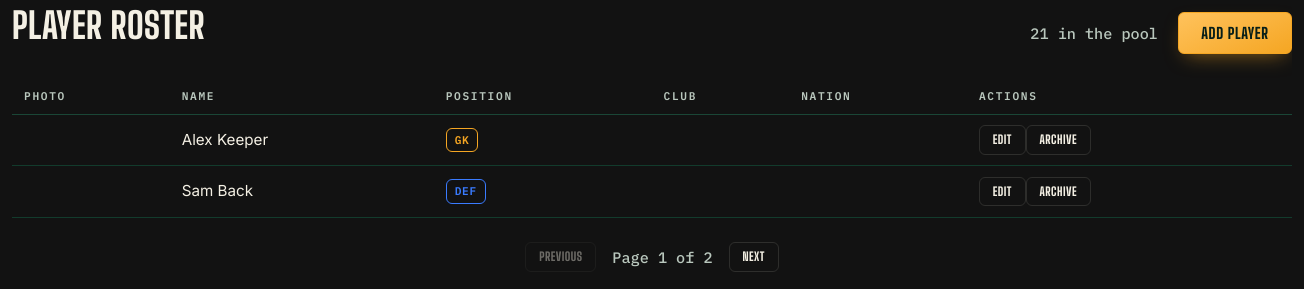
Test: RosterPage › pages forward and back through a roster larger than one page
Check: the text "Alex Keeper" is shown, box x1=170 y1=114 x2=434 y2=166
Check: the button "Previous" is disabled, box x1=525 y1=242 x2=596 y2=272
Click the button "Next": point(754, 257) x1=729 y1=242 x2=779 y2=272
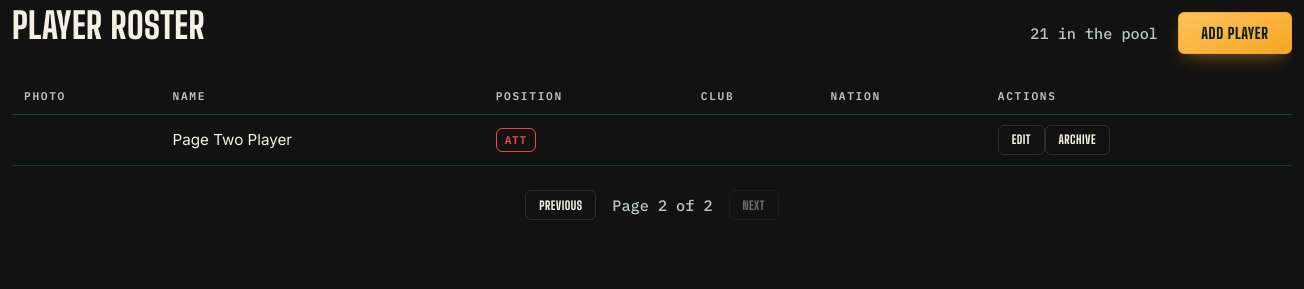
Check: the text "Page Two Player" is shown, box x1=160 y1=114 x2=484 y2=166
Check: the text "Page 2 of 2" is shown, box x1=612 y1=194 x2=713 y2=216
Click the button "Previous": point(561, 205) x1=525 y1=190 x2=596 y2=220
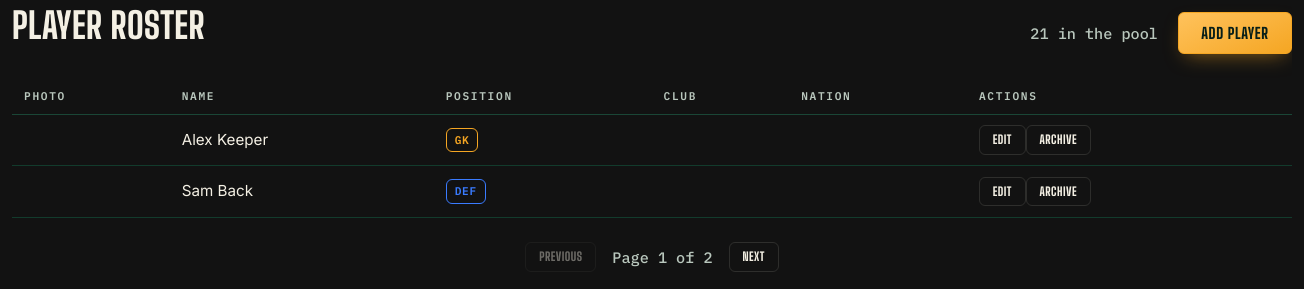
Check: the text "Alex Keeper" is shown, box x1=170 y1=114 x2=434 y2=166
